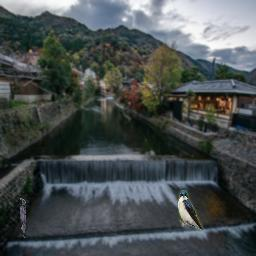Crow: (20, 198, 26, 238)
Swallow: (178, 190, 203, 230)
